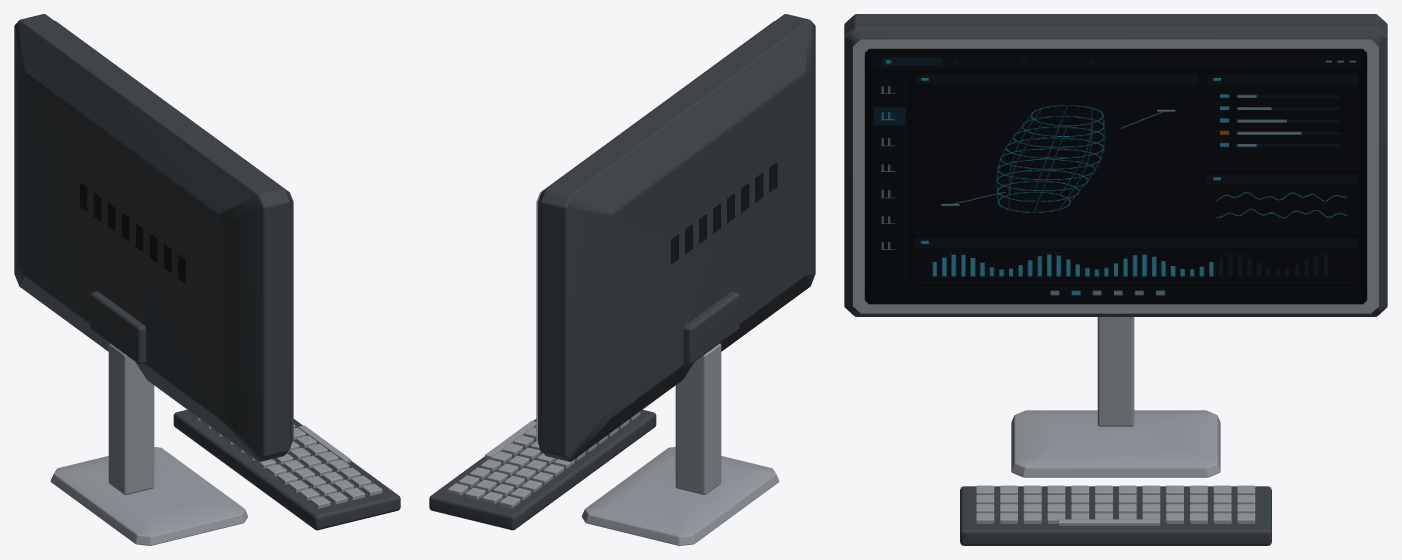
File: ZH_ENV_Specimen_Computer.fbx
3 renders of one model, left to right at view 1: azimuth 30°, elevation 25°; view 2: azimuth 150°, elevation 25°; view 3: azimuth 270°, elevation 25°, orthographic. The views are drawn at different scales.
Visible parts, largest first — view 1: Terminal | specimen tapered back.001, Terminal | weighted desk foot.001, Terminal | articulated support.001, Terminal | compact keyboard.001, Terminal | hinge housing.001, Terminal | specimen anodized bezel.001; view 2: Terminal | specimen tapered back.001, Terminal | weighted desk foot.001, Terminal | articulated support.001, Terminal | compact keyboard.001, Terminal | hinge housing.001, Terminal | specimen anodized bezel.001; view 3: Terminal | specimen LCD.001, Terminal | specimen tapered back.001, Terminal | specimen anodized bezel.001, Terminal | weighted desk foot.001, Terminal | compact keyboard.001, Terminal | articulated support.001, Terminal | space key.001.
Boxes of the visible parts, left/top/right/bottom form: Terminal | specimen tapered back.001: left=14, top=14, right=291, bottom=461; Terminal | weighted desk foot.001: left=50, top=447, right=248, bottom=545; Terminal | articulated support.001: left=108, top=343, right=154, bottom=494; Terminal | compact keyboard.001: left=173, top=409, right=400, bottom=530; Terminal | hinge housing.001: left=90, top=291, right=146, bottom=364; Terminal | specimen anodized bezel.001: left=55, top=21, right=293, bottom=442; Terminal | specimen tapered back.001: left=538, top=14, right=815, bottom=461; Terminal | weighted desk foot.001: left=581, top=447, right=779, bottom=545; Terminal | articulated support.001: left=675, top=343, right=721, bottom=494; Terminal | compact keyboard.001: left=429, top=409, right=656, bottom=530; Terminal | hinge housing.001: left=683, top=291, right=739, bottom=364; Terminal | specimen anodized bezel.001: left=536, top=21, right=774, bottom=442; Terminal | specimen LCD.001: left=865, top=49, right=1366, bottom=304; Terminal | specimen tapered back.001: left=844, top=14, right=1387, bottom=316; Terminal | specimen anodized bezel.001: left=853, top=39, right=1378, bottom=313; Terminal | weighted desk foot.001: left=1011, top=410, right=1220, bottom=477; Terminal | compact keyboard.001: left=960, top=486, right=1271, bottom=545; Terminal | articulated support.001: left=1097, top=317, right=1134, bottom=426; Terminal | space key.001: left=1058, top=519, right=1159, bottom=525.
Size of the model in its own units: 0.4394 by 0.704 by 0.802.
4 materials, 1 textured.
